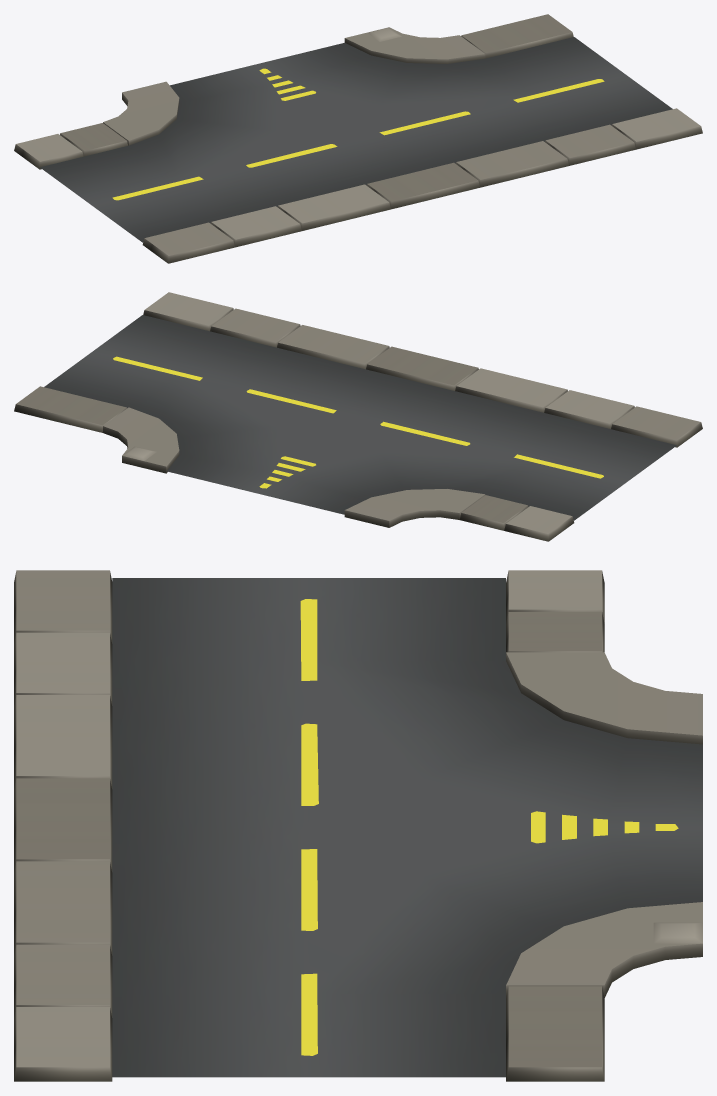
Rendered from Road_3A_Intersection.fbx.
3 views of the same model, one above another, from view 1: azimuth 30°, elevation 25°; view 2: azimuth 150°, elevation 25°; view 3: azimuth 270°, elevation 25° (orthographic). The views are drawn at different scales.
Visible parts, largest first — view 1: Road_3A_Intersection; view 2: Road_3A_Intersection; view 3: Road_3A_Intersection.
Boxes of the visible parts, x1=… form: Road_3A_Intersection: x1=14, y1=14, x2=702, y2=263; Road_3A_Intersection: x1=14, y1=292, x2=702, y2=541; Road_3A_Intersection: x1=14, y1=570, x2=702, y2=1081.
Bounding box in the file's own units: 2400 × 35.65 × 1400.
